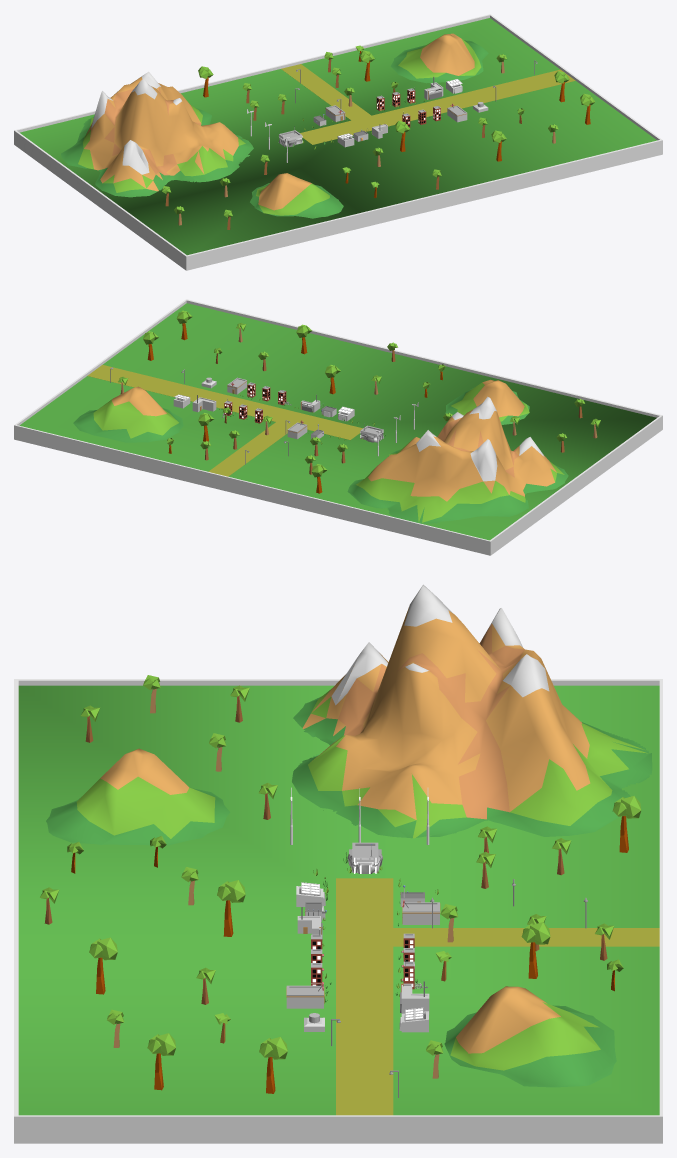
The model's file is stand.glb.
3 renders of one model, top to bottom at view 1: azimuth 30°, elevation 25°; view 2: azimuth 150°, elevation 25°; view 3: azimuth 270°, elevation 25°, orthographic. The views are drawn at different scales.
Visible parts, largest first — view 1: Основа, Декор.003, Дорога, Декор.002, Cube; view 2: Основа, Декор.003, Дорога, Декор.002, Cube.001; view 3: Основа, Декор.003, Дорога, Декор.002, Подстанция, Больница 1, Больница 2.
Part boxes in pixels (x1,y1,x2,y2): Основа: (14,14,662,270); Декор.003: (61,33,488,218); Дорога: (281,64,575,144); Декор.002: (162,45,594,229); Cube: (376,87,415,110); Основа: (14,299,662,555); Декор.003: (73,379,568,523); Дорога: (87,365,362,476); Декор.002: (118,310,600,493); Cube.001: (247,382,291,405); Основа: (14,679,662,1143); Декор.003: (46,584,652,1087); Дорога: (336,878,659,1115); Декор.002: (40,675,641,1093); Подстанция: (347,842,382,873); Больница 1: (286,983,324,1008); Больница 2: (402,900,440,924).
Bounding box in the file's own units: 380 × 73.24 × 238.
